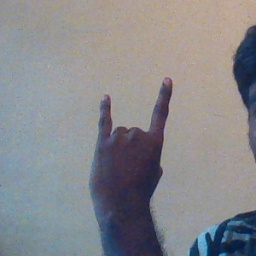V: (87, 74, 178, 207)
